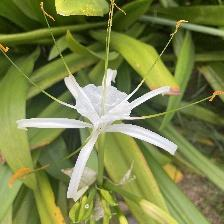spider lily: (58, 68, 163, 174)
